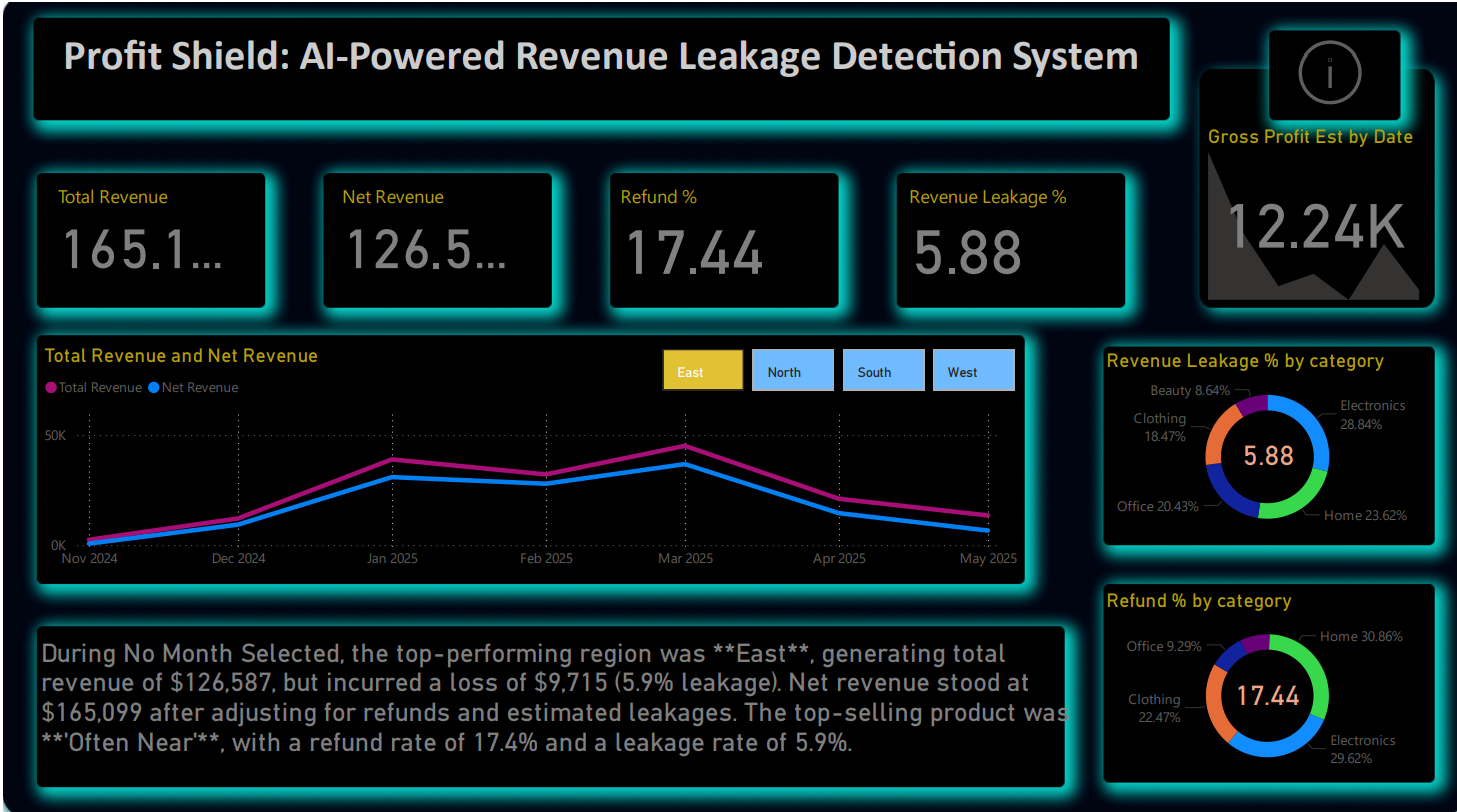

This screenshot's page, from the dashboard's own definition file:
{"tool":"powerbi","page":{"name":"Overview","canvas":[1280,720],"ordinal":0},"visuals":[{"type":"cardVisual","fields":{"Data":["Date.Total Revenue"]},"box":[31.4,141.4,197.1,112.9],"z":1000},{"type":"cardVisual","fields":{"Data":["Date.Revenue Leakage %"]},"box":[777.1,141.4,197.1,111.4],"z":2000},{"type":"cardVisual","fields":{"Data":["Date.Refund %"]},"box":[524.3,141.4,195.7,111.4],"z":3000},{"type":"cardVisual","fields":{"Data":["Date.Net Revenue"]},"box":[280,141.4,195.7,112.9],"z":4000},{"type":"lineChart","title":"Total Revenue and Net Revenue","fields":{"Y":["Date.Total Revenue","Date.Net Revenue"],"Category":["Date.Date.Variation.Date Hierarchy.Year","Date.Date.Variation.Date Hierarchy.Quarter","Date.Date.Variation.Date Hierarchy.Month"]},"box":[31.4,298.6,861.4,207.1],"z":5000},{"type":"donutChart","fields":{"Y":["Date.Revenue Leakage %"],"Category":["leaks products1.category"]},"box":[962.1,304.3,292.1,170],"z":6000},{"type":"donutChart","fields":{"Category":["leaks products1.category"],"Y":["Date.Refund %"]},"box":[962.1,513.6,292.1,169.3],"z":7000},{"type":"card","fields":{"Values":["Date.Revenue Leakage %"]},"box":[1067.1,365.7,82.9,61.4],"z":8000},{"type":"card","fields":{"Values":["Date.Refund %"]},"box":[1067.1,576.4,82.1,60.7],"z":9000},{"type":"textbox","box":[31.4,17.1,985.7,78.6],"z":10000},{"type":"kpi","title":"Gross Profit Est by Date","fields":{"Indicator":["Date.Gross Profit Estimate"],"TrendLine":["Date.Weekday"]},"box":[1051.4,107.1,194.3,158.6],"z":11000},{"type":"cardVisual","fields":{"Data":["leaks ai_leak_analysis.Page 1 Summary"]},"box":[22.2,505.6,931.1,198.9],"z":12000},{"type":"advancedSlicerVisual","fields":{"Values":["leaks view_customer_summary.region"]},"box":[572.5,298.8,320,46.2],"z":13000},{"type":"actionButton","box":[1127.5,26.2,92.5,70],"z":14000}]}

Visuals, with their boxes in screenshot pixels (x1, y1, x2, y2), scaled from the page's 1280x720 canvas onto the 1457x812 screenshot:
cardVisual - Date.Total Revenue: 36,159,260,287
cardVisual - Date.Revenue Leakage %: 885,159,1109,285
cardVisual - Date.Refund %: 597,159,820,285
cardVisual - Date.Net Revenue: 319,159,541,287
"Total Revenue and Net Revenue" lineChart: 36,337,1016,570
donutChart - Date.Revenue Leakage % x leaks products1.category: 1095,343,1428,535
donutChart - leaks products1.category x Date.Refund %: 1095,579,1428,770
card - Date.Revenue Leakage %: 1215,412,1309,482
card - Date.Refund %: 1215,650,1308,719
textbox: 36,19,1158,108
"Gross Profit Est by Date" kpi: 1197,121,1418,300
cardVisual - leaks ai_leak_analysis.Page 1 Summary: 25,570,1085,795
advancedSlicerVisual - leaks view_customer_summary.region: 652,337,1016,389
actionButton: 1283,30,1389,108
